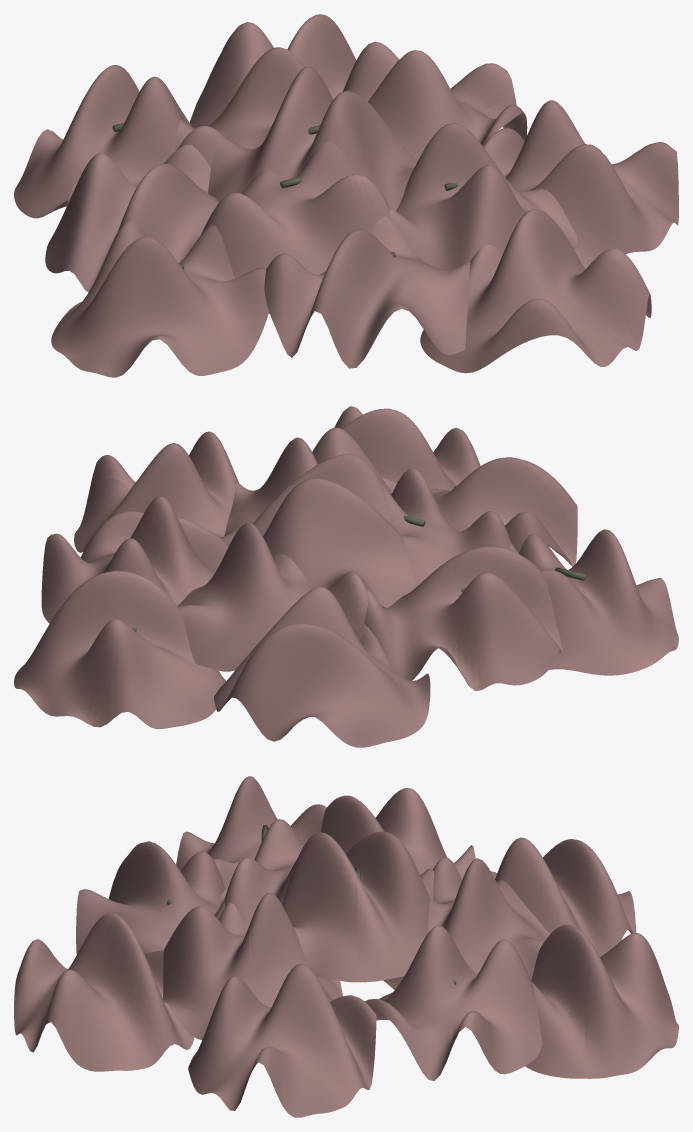
Rendered from acanth-desktop.glb.
3 views of the same model, one above another, from view 1: azimuth 30°, elevation 25°; view 2: azimuth 150°, elevation 25°; view 3: azimuth 270°, elevation 25° (orthographic). The views are drawn at different scales.
Parts seen in each view (by area): view 1: inflated-corallite; view 2: inflated-corallite; view 3: inflated-corallite.
Boxes of the visible parts, x1=… form: inflated-corallite: x1=14, y1=14, x2=678, y2=377; inflated-corallite: x1=14, y1=406, x2=678, y2=747; inflated-corallite: x1=14, y1=776, x2=678, y2=1117.
Bounding box in the file's own units: 0.5917 × 0.1589 × 0.6072.
